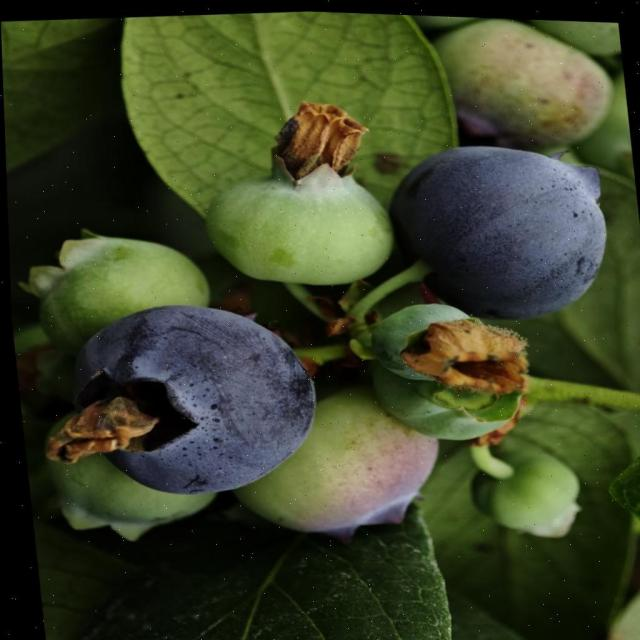RipeBlueBerry: (60, 298, 326, 510), (385, 132, 614, 326)
UnripeBlueBerry: (196, 125, 394, 292)
